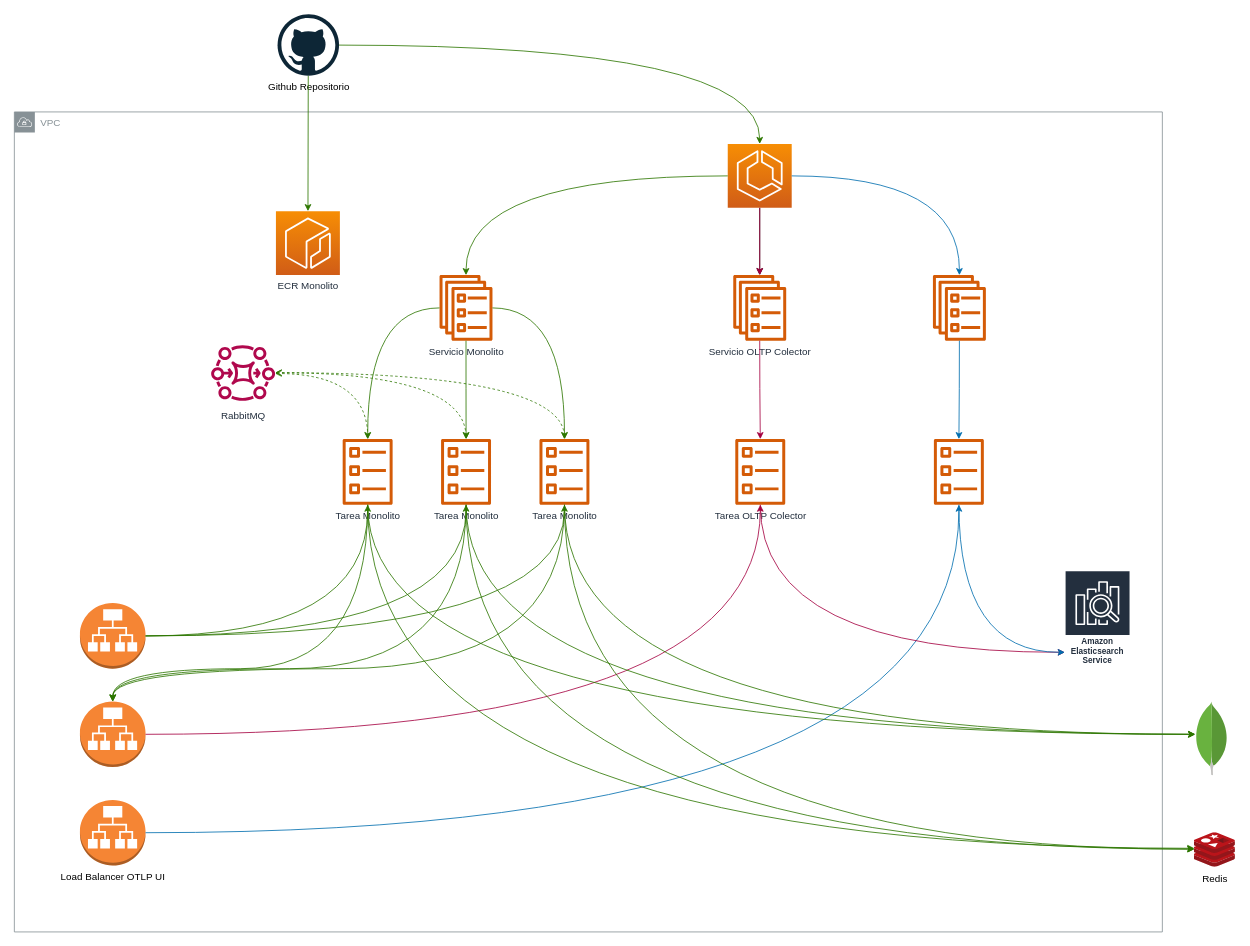
Image size: 1250x946. Some labels were removed from this diagram. The shapes that lost their labels are listed below. From the top down, each one's centre as x and y in pixels, then its label:
pixel 759 175: ECS
pixel 959 307: Servicio OLTP UI
pixel 958 471: Tarea OLTP UI
pixel 112 635: Load Balancer Monolito
pixel 112 734: Load Balancer OTLP Colector
pixel 1211 738: MongoDB
